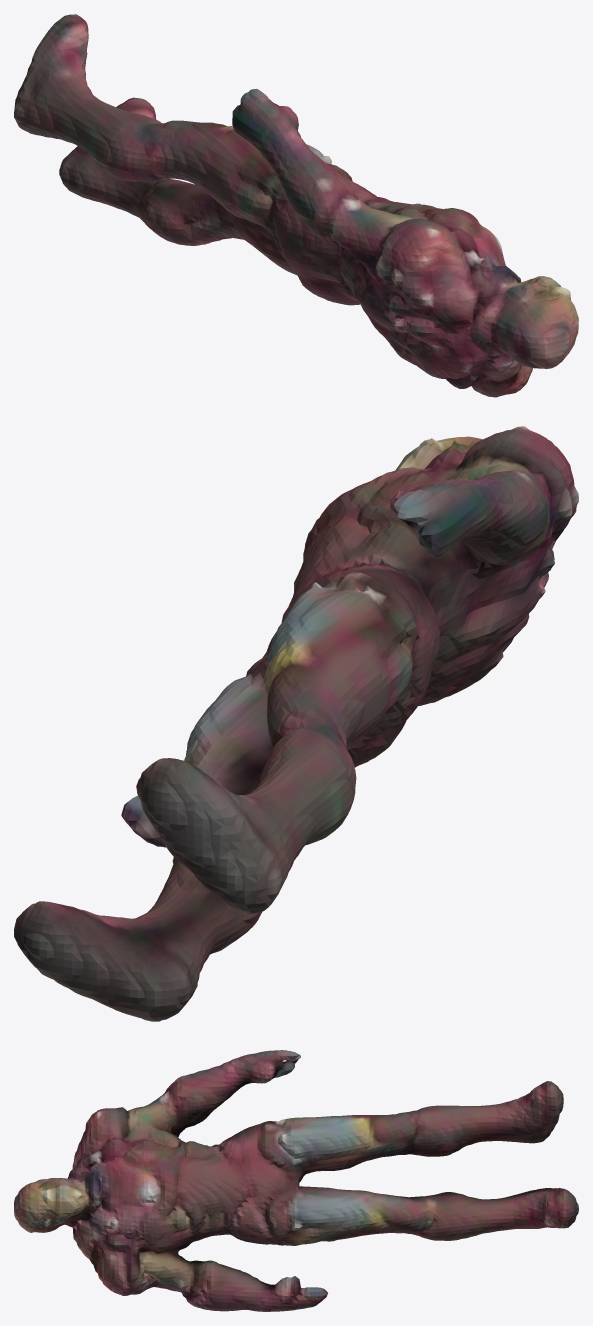
File: ironman.glb
The picture shows the model from 3 angles, top to bottom: view 1: azimuth 30°, elevation 25°; view 2: azimuth 150°, elevation 25°; view 3: azimuth 270°, elevation 25°; orthographic projection. The views are drawn at different scales.
Parts seen in each view (by area): view 1: world; view 2: world; view 3: world.
Part boxes in pixels (x1,y1,x2,y2): world: (14, 14, 578, 397); world: (14, 426, 578, 1021); world: (14, 1050, 578, 1311).
Size of the model in its own units: 0.3523 by 0.3721 by 0.918.
